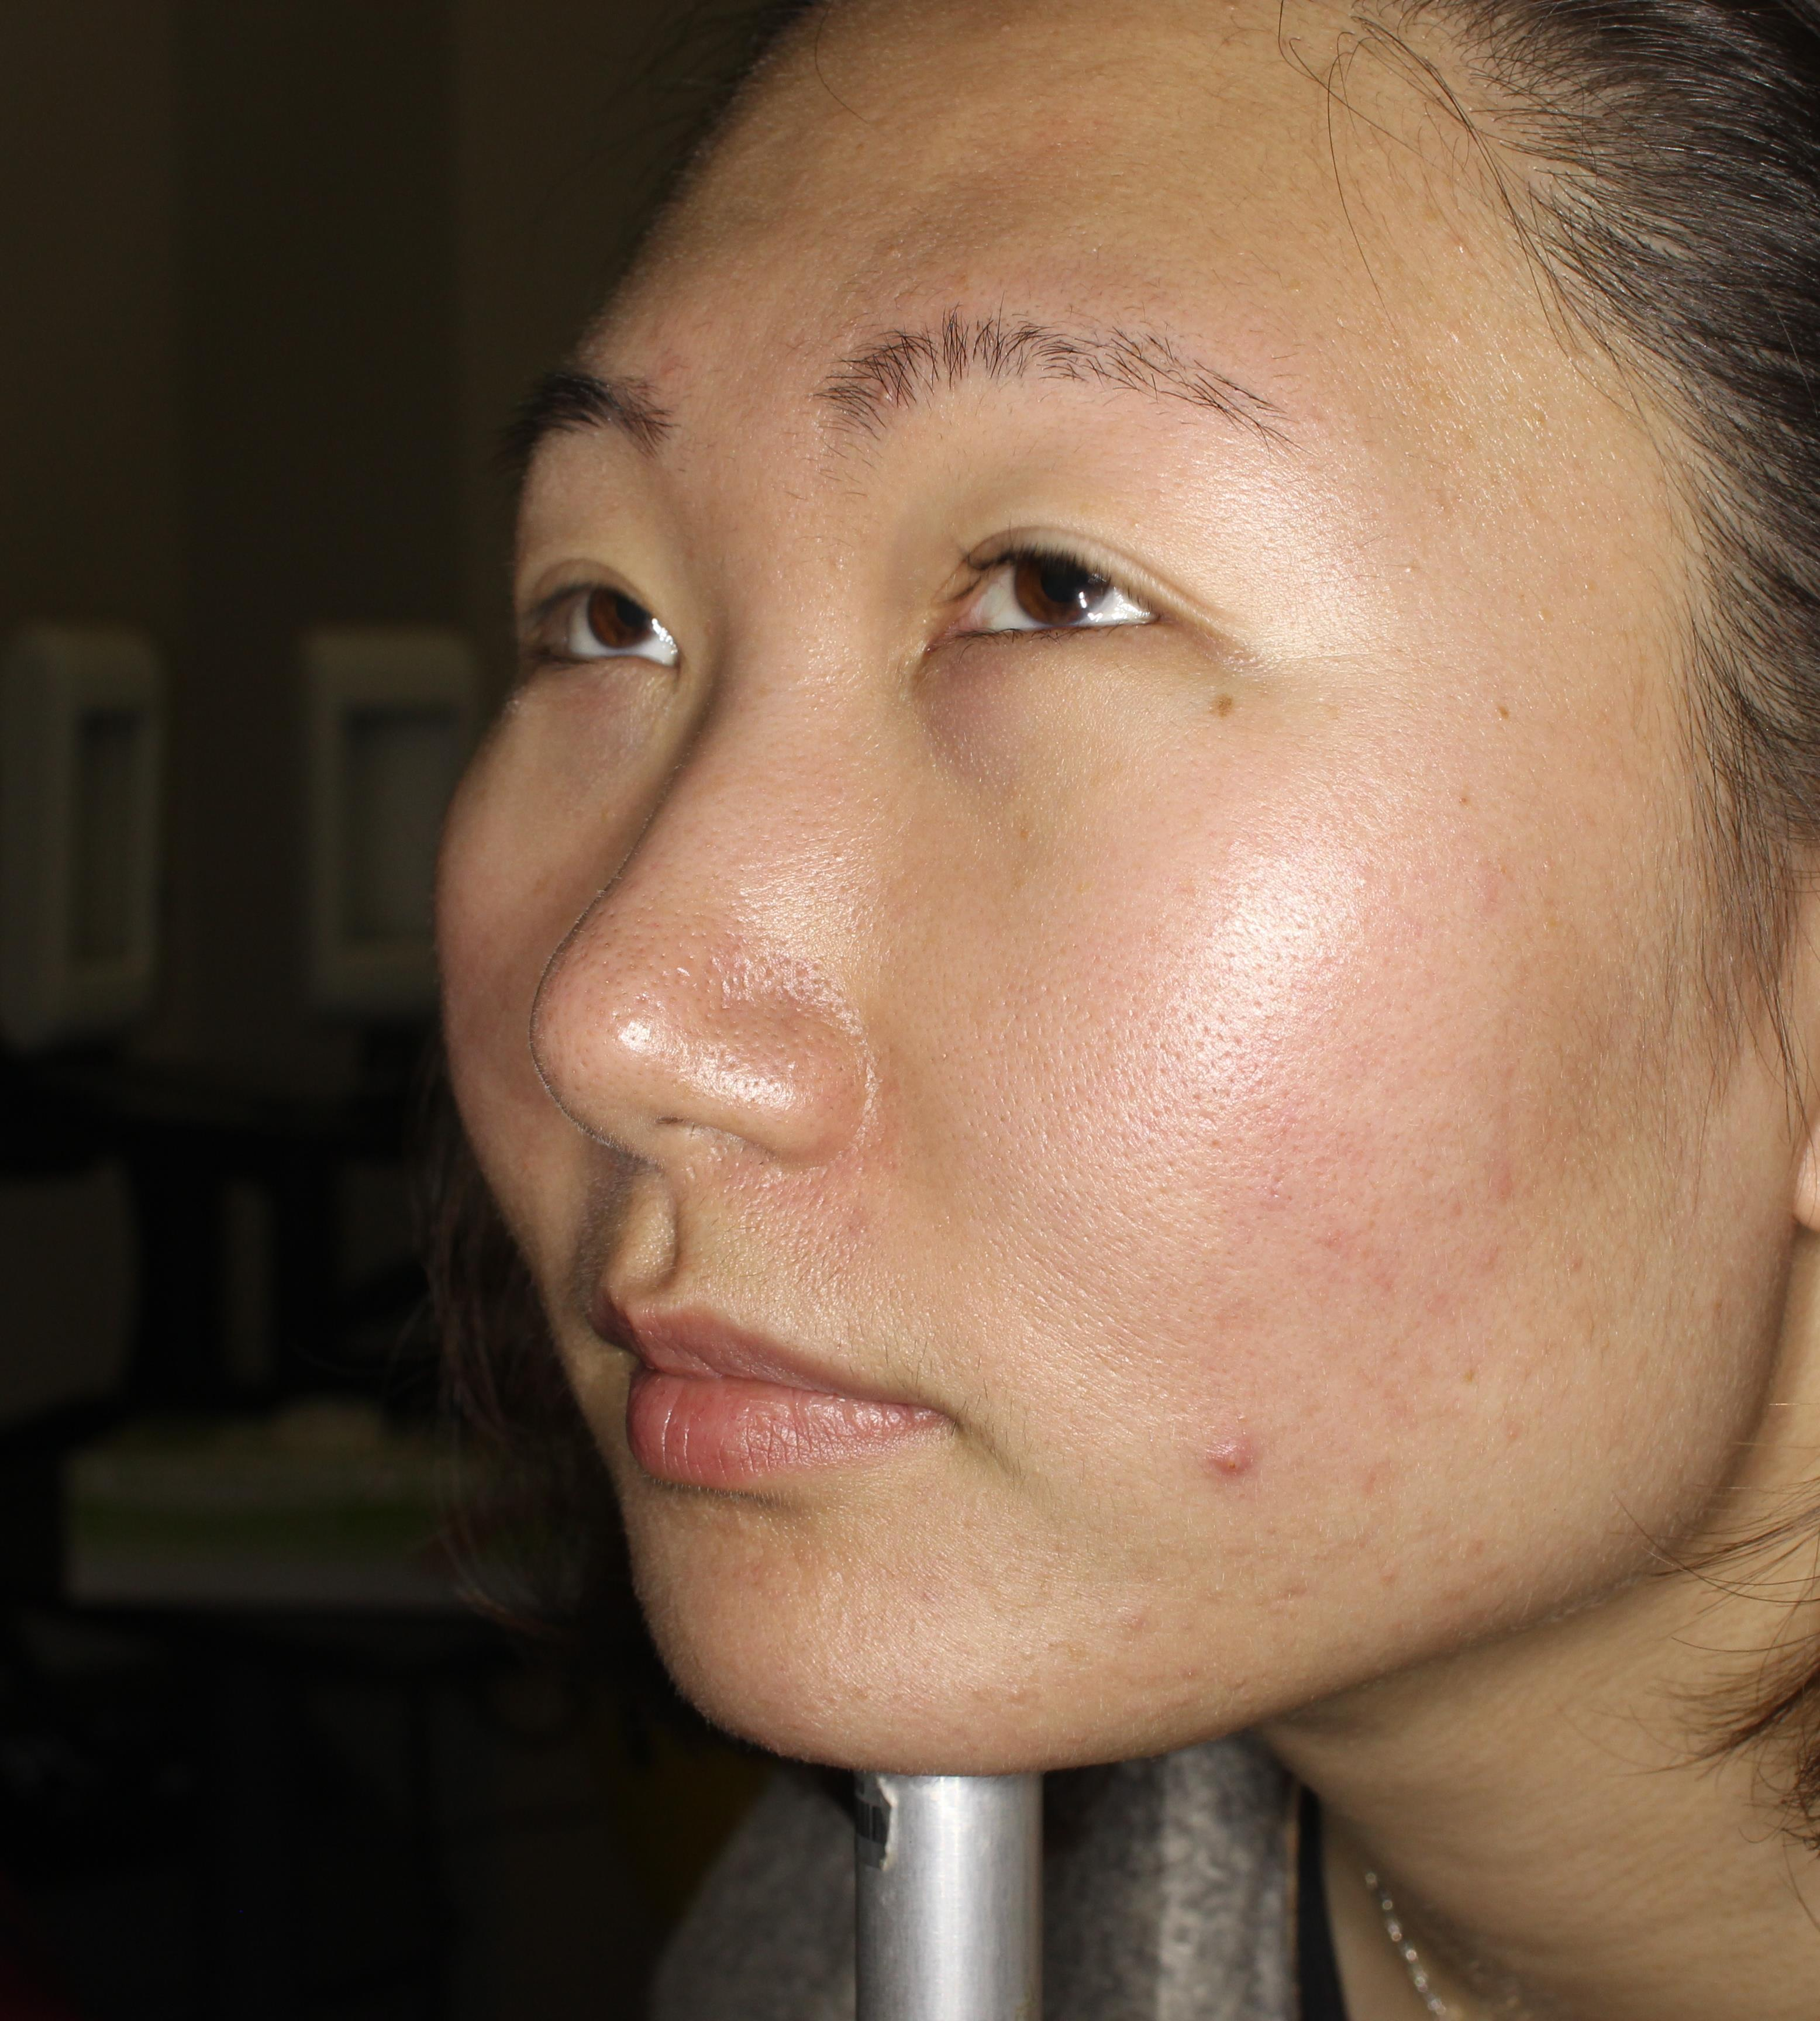fore: (1193, 1406, 1300, 1517)
